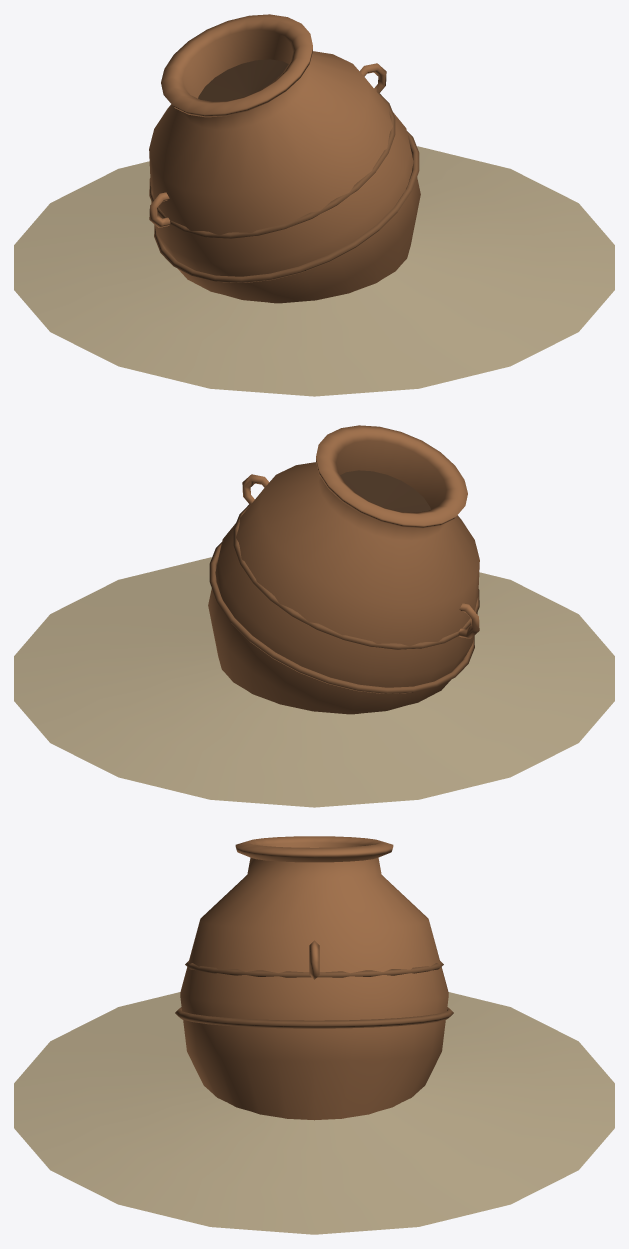
Rendered from lake-khum-shallows-1.glb.
The picture shows the model from 3 angles, top to bottom: view 1: azimuth 30°, elevation 25°; view 2: azimuth 150°, elevation 25°; view 3: azimuth 270°, elevation 25°; orthographic projection.
Parts seen in each view (by area): view 1: lake-khum-shallows-1; view 2: lake-khum-shallows-1; view 3: lake-khum-shallows-1.
Part boxes in pixels (x1,y1,x2,y2): lake-khum-shallows-1: (14, 14, 614, 396); lake-khum-shallows-1: (14, 425, 614, 807); lake-khum-shallows-1: (14, 836, 614, 1234).
Bounding box in the file's own units: 1.62 × 1.04 × 1.6.
